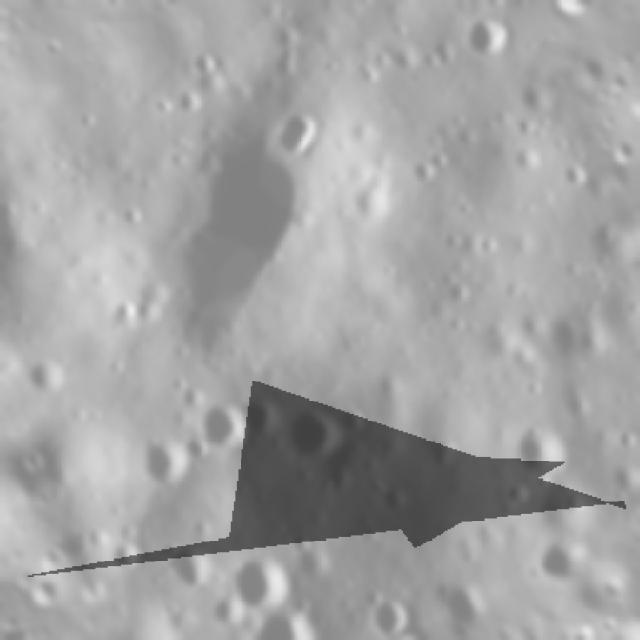crater: (87, 91, 353, 375), (212, 533, 300, 621), (183, 373, 265, 458), (273, 396, 356, 475), (121, 422, 202, 502), (261, 93, 339, 167), (535, 297, 610, 371), (15, 334, 84, 406), (504, 413, 571, 481), (232, 378, 296, 444), (461, 5, 524, 70), (282, 525, 340, 592), (244, 598, 334, 640), (191, 581, 248, 640), (99, 527, 152, 581), (362, 591, 418, 640), (179, 42, 230, 86), (553, 152, 596, 198), (400, 150, 442, 193), (170, 78, 212, 120), (511, 139, 551, 179)
